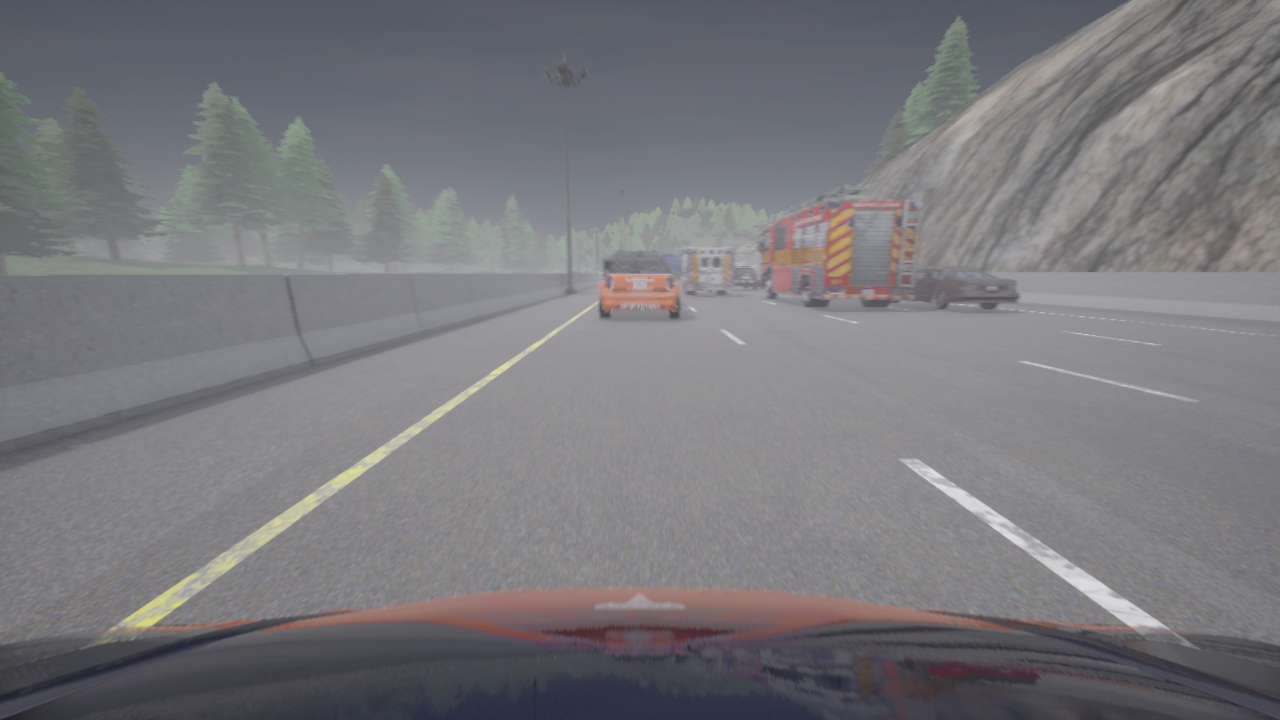cyclist: (0, 588, 1279, 719), (757, 185, 921, 308), (891, 267, 1019, 310), (599, 254, 680, 318), (677, 248, 733, 295), (604, 251, 661, 270), (733, 267, 758, 290), (663, 254, 681, 283)
